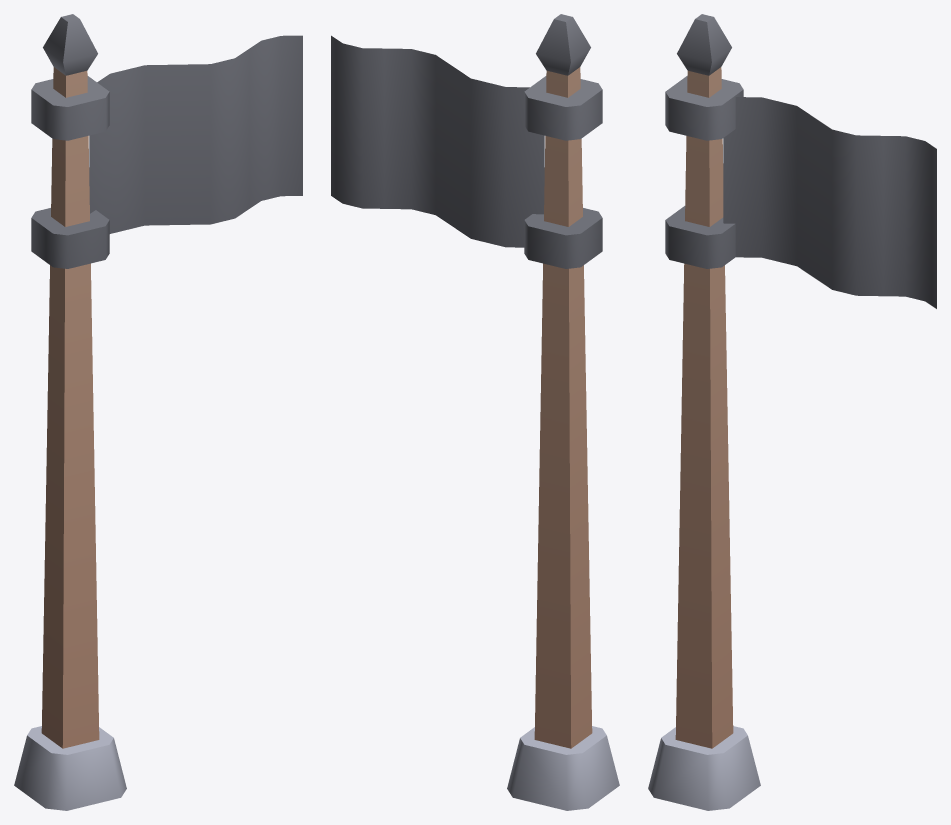
File: flag-pirate-high.glb
3 renders of one model, left to right at view 1: azimuth 30°, elevation 25°; view 2: azimuth 150°, elevation 25°; view 3: azimuth 330°, elevation 25°, orthographic.
Visible parts, largest first — view 1: flag-pirate-high; view 2: flag-pirate-high; view 3: flag-pirate-high.
Boxes of the visible parts, x1,y1,x2,y2 form: flag-pirate-high: (14, 14, 302, 810); flag-pirate-high: (331, 14, 619, 810); flag-pirate-high: (648, 14, 936, 810).
Bounding box in the file's own units: 1.34 × 3.6 × 0.3989.
